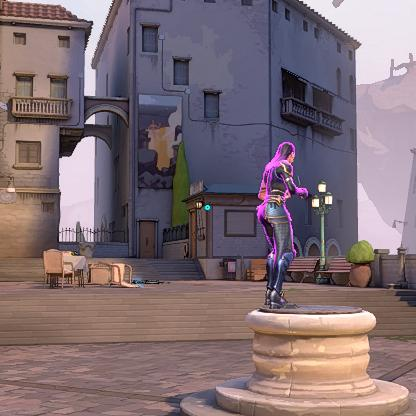enemyBody: (267, 162, 288, 202)
enemyHead: (283, 142, 294, 157)
